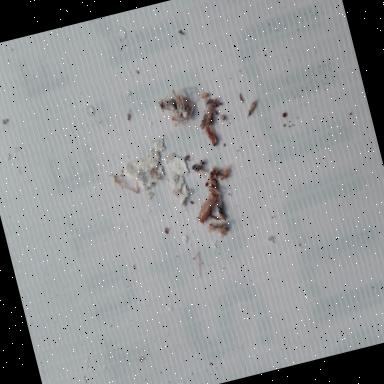pbw: (190, 191, 222, 228), (204, 123, 220, 147), (198, 111, 211, 130), (207, 184, 222, 196), (211, 178, 221, 195)
